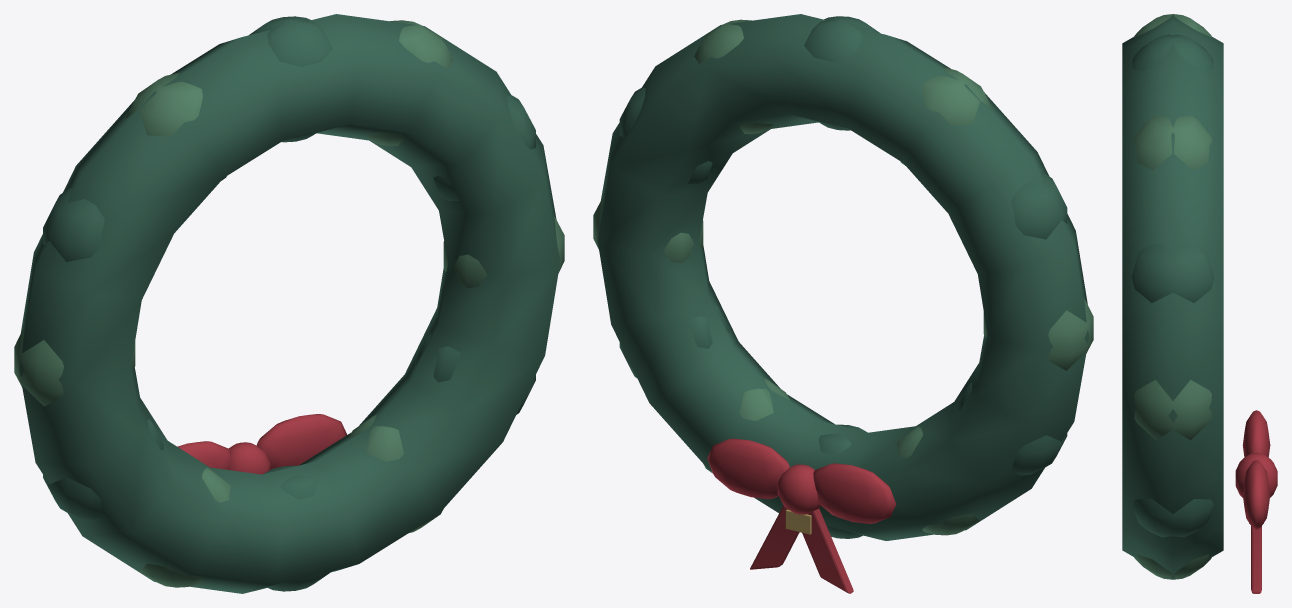
Rendered from wreath.glb.
The picture shows the model from 3 angles, left to right: view 1: azimuth 30°, elevation 25°; view 2: azimuth 150°, elevation 25°; view 3: azimuth 270°, elevation 25°; orthographic projection. The views are drawn at different scales.
Bounding box in the file's own units: 0.68 × 0.7003 × 0.1857.
